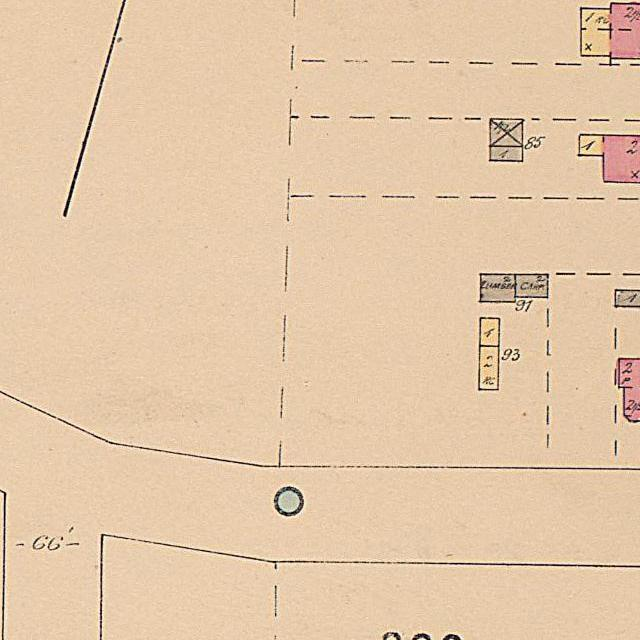building-footprints: (581, 3, 640, 59), (580, 135, 640, 183), (619, 359, 640, 421), (480, 275, 515, 302), (490, 119, 522, 147), (479, 346, 499, 390), (515, 274, 548, 297), (480, 318, 499, 346), (490, 146, 523, 161), (616, 290, 640, 307)
